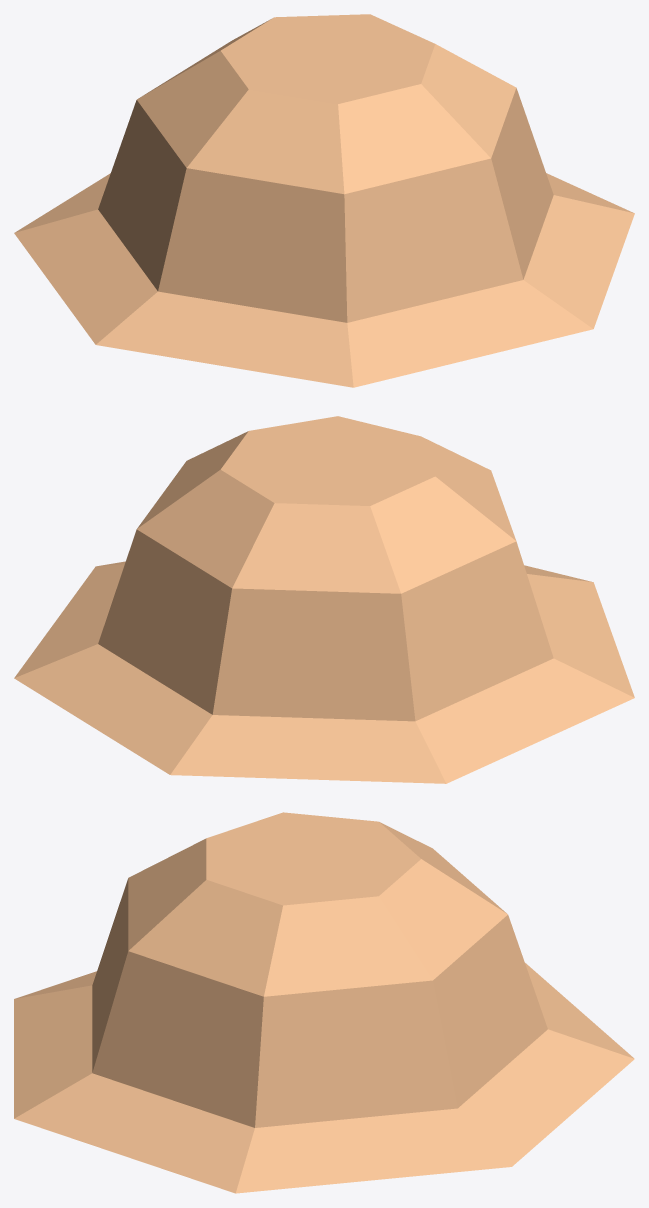
The model's file is fishhat.glb.
The picture shows the model from 3 angles, top to bottom: view 1: azimuth 30°, elevation 25°; view 2: azimuth 150°, elevation 25°; view 3: azimuth 270°, elevation 25°; orthographic projection. The views are drawn at different scales.
Visible parts, largest first — view 1: Circle; view 2: Circle; view 3: Circle.
Boxes of the visible parts, <box> form: Circle: <box>14,14,634,387</box>; Circle: <box>14,416,634,783</box>; Circle: <box>14,812,634,1193</box>.
Size of the model in its own units: 1.95 by 0.6756 by 1.9.
Materials: 1 (1 with a texture image).
